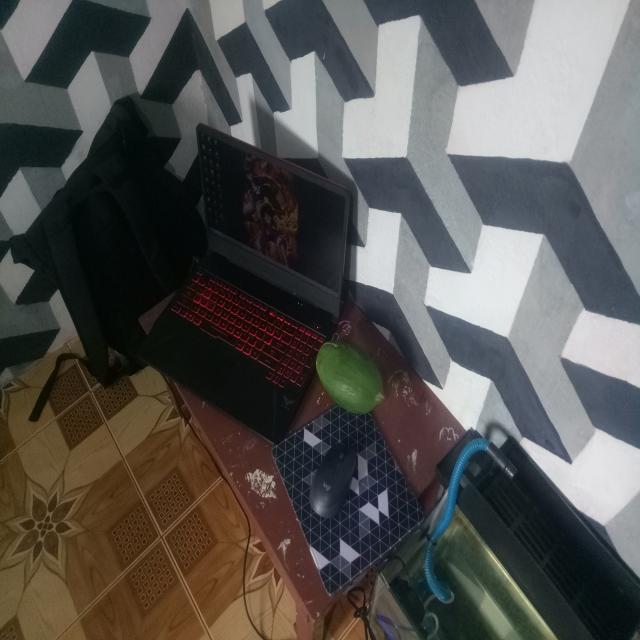Pepaya unrippen: (305, 327, 394, 422)
